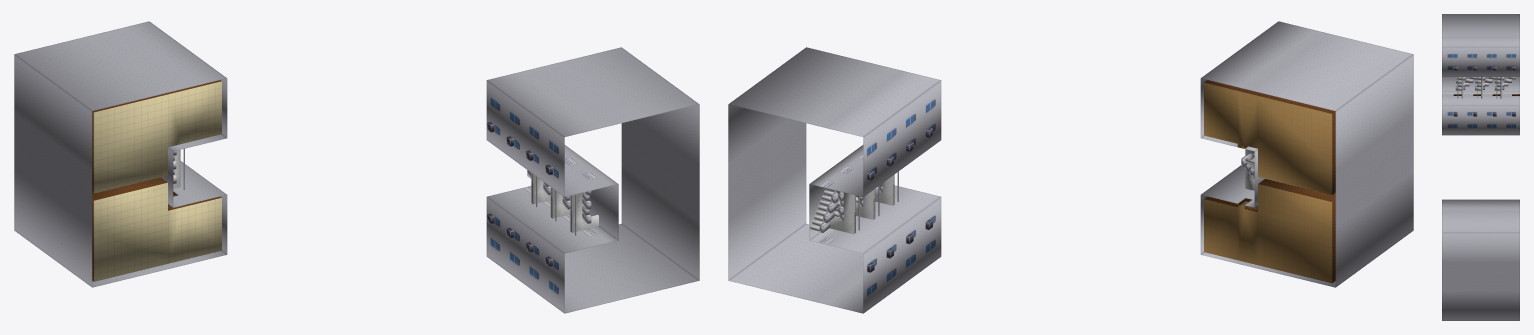
File: apartments.fbx
The picture shows the model from 3 angles, left to right: view 1: azimuth 30°, elevation 25°; view 2: azimuth 150°, elevation 25°; view 3: azimuth 270°, elevation 25°; orthographic projection. The views are drawn at different scales.
Parts seen in each view (by area): view 1: apartment_001; view 2: apartment_001; view 3: apartment_001.
Part boxes in pixels (bbox=[...]): apartment_001: bbox=[14, 21, 699, 313]; apartment_001: bbox=[728, 21, 1413, 313]; apartment_001: bbox=[1442, 14, 1519, 320].
Size of the model in its own units: 180 by 90 by 40.
Materials: 1 (1 with a texture image).
